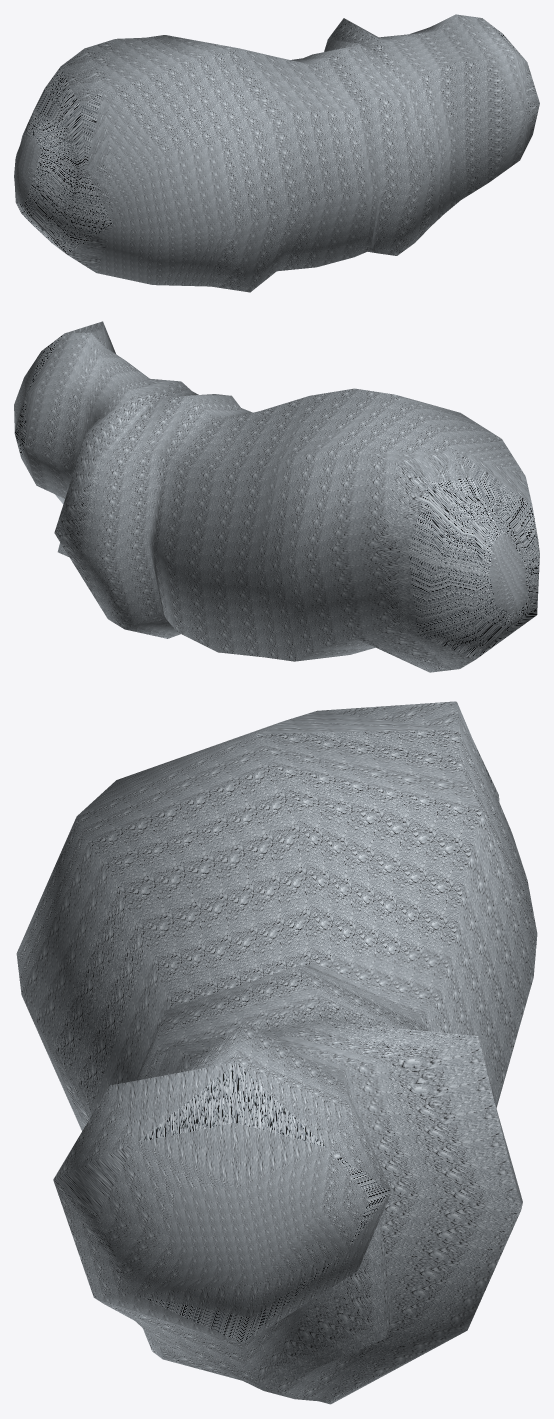
File: itokawa.fbx
The picture shows the model from 3 angles, top to bottom: view 1: azimuth 30°, elevation 25°; view 2: azimuth 150°, elevation 25°; view 3: azimuth 270°, elevation 25°; orthographic projection. The views are drawn at different scales.
Parts seen in each view (by area): view 1: pCube1; view 2: pCube1; view 3: pCube1.
Part boxes in pixels (x1,y1,x2,y2): pCube1: (14, 14, 539, 292); pCube1: (14, 321, 539, 672); pCube1: (16, 701, 537, 1404).
Bounding box in the file's own units: 19.81 × 9.79 × 9.53.
Materials: 1 (1 with a texture image).
